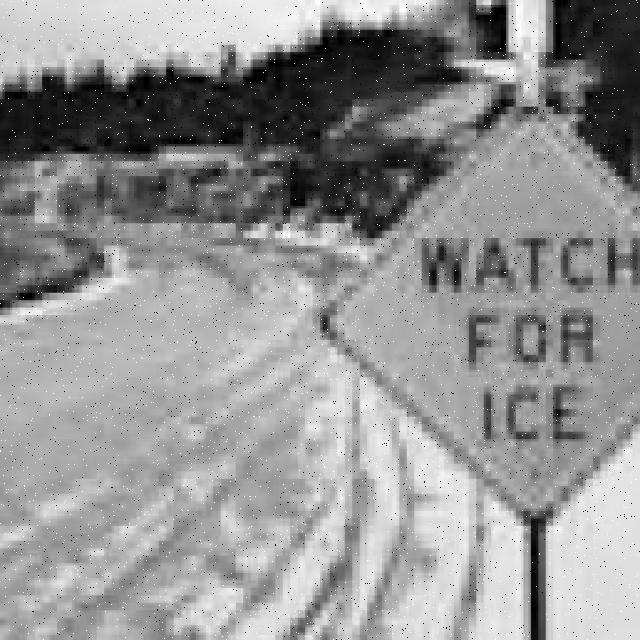ice-road: (0, 231, 507, 640)
